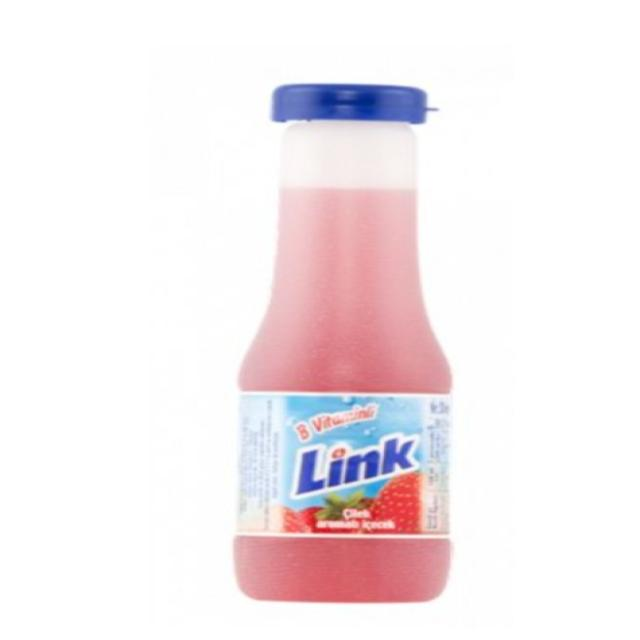yan_yemek: (230, 81, 456, 603)
